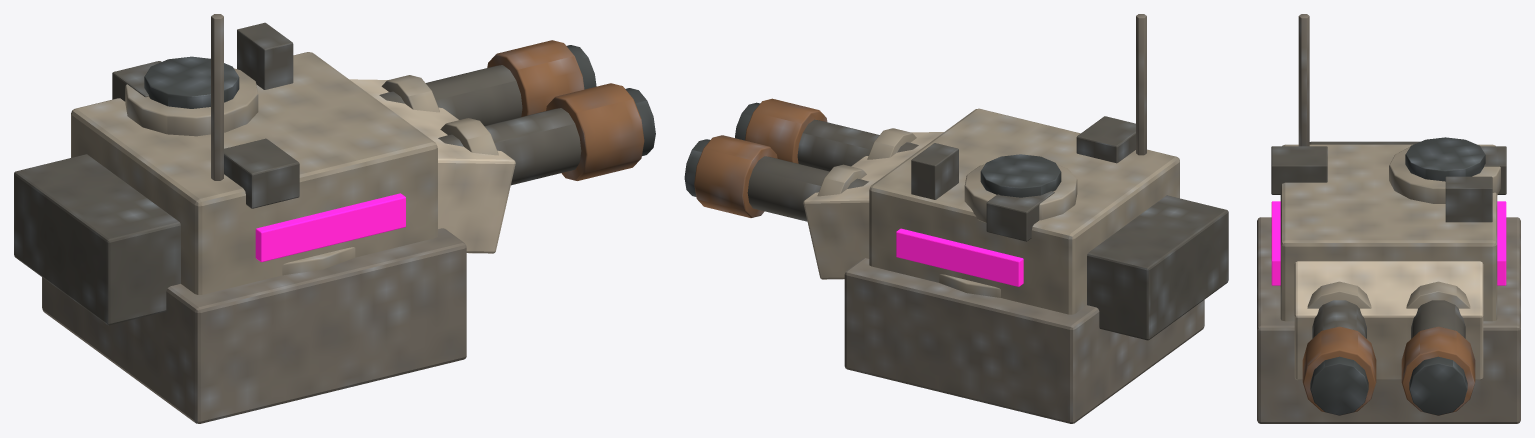
File: turret_head.glb
The picture shows the model from 3 angles, left to right: view 1: azimuth 30°, elevation 25°; view 2: azimuth 150°, elevation 25°; view 3: azimuth 270°, elevation 25°; orthographic projection. The views are drawn at different scales.
Parts seen in each view (by area): view 1: Sandwar3D; view 2: Sandwar3D; view 3: Sandwar3D.
Boxes of the visible parts, x1,y1,x2,y2 form: Sandwar3D: (14,14,655,423); Sandwar3D: (684,14,1228,423); Sandwar3D: (1257,14,1520,423).
Size of the model in its own units: 1.13 by 0.745 by 0.56.
Materials: 7 (6 with a texture image).
